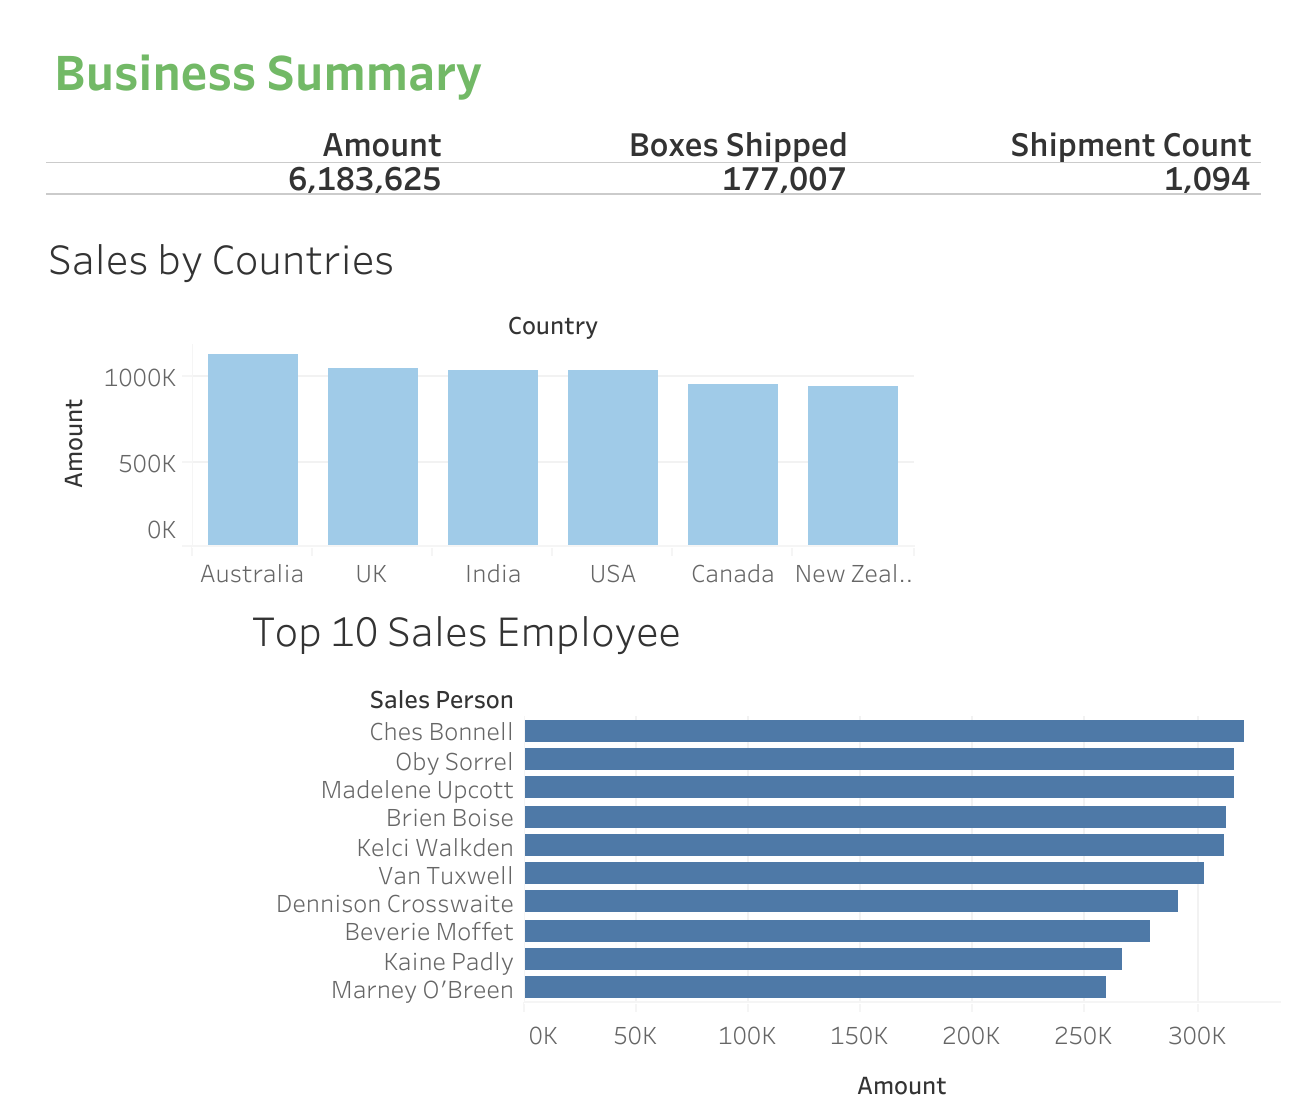

The page's visual inventory and layout, read from the dashboard file:
{"tool":"tableau","page":{"name":"Dashboard 1","canvas":[650,860],"ordinal":0},"visuals":[{"type":"worksheet","title":"Sheet 3","mark":"Automatic","box":[23,19.1,608,131.3]},{"type":"worksheet","title":"Sheet 1","mark":"Automatic","rows":["Amount"],"cols":["Country"],"box":[20,166.8,437,285.8]},{"type":"worksheet","title":"Sheet 2","mark":"Automatic","rows":["Sales Person"],"cols":["Amount"],"box":[122,452.6,518,403.3]}]}

Visuals, with their boxes on the page's 650x860 design canvas (x1, y1, x2, y2). These are canvas units, not pixel positions in the 1298x1120 screenshot, which may show the page scaled, cropped or inside an application window:
"Sheet 3" worksheet: left=23, top=19, right=631, bottom=150
"Sheet 1" worksheet: left=20, top=167, right=457, bottom=453
"Sheet 2" worksheet: left=122, top=453, right=640, bottom=856
